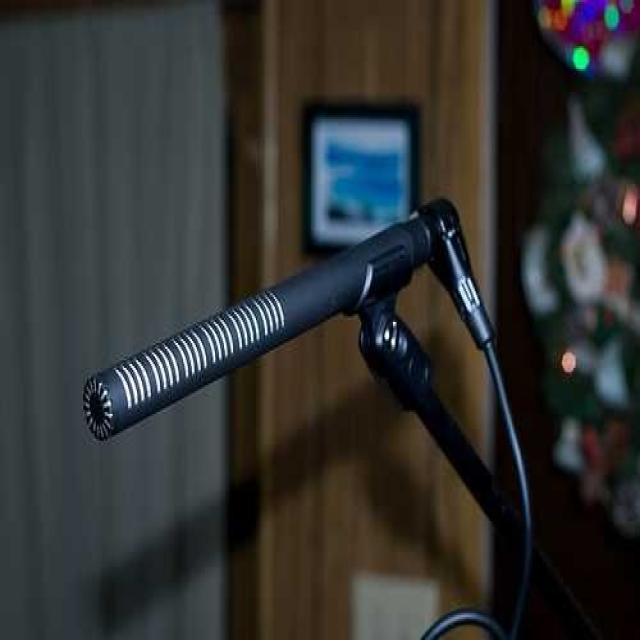microphone: (93, 205, 434, 435)
